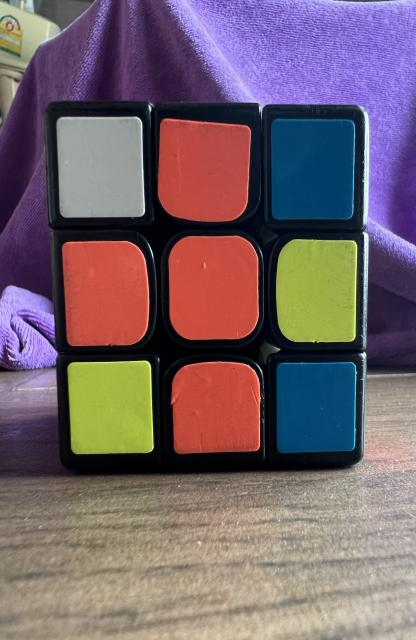Blue: (271, 119, 355, 220), (276, 362, 356, 452)
Orange: (158, 119, 251, 222), (168, 235, 259, 340), (62, 241, 150, 346), (170, 361, 261, 454)
White: (56, 116, 145, 218)
Yellow: (276, 239, 358, 342), (67, 361, 154, 455)
